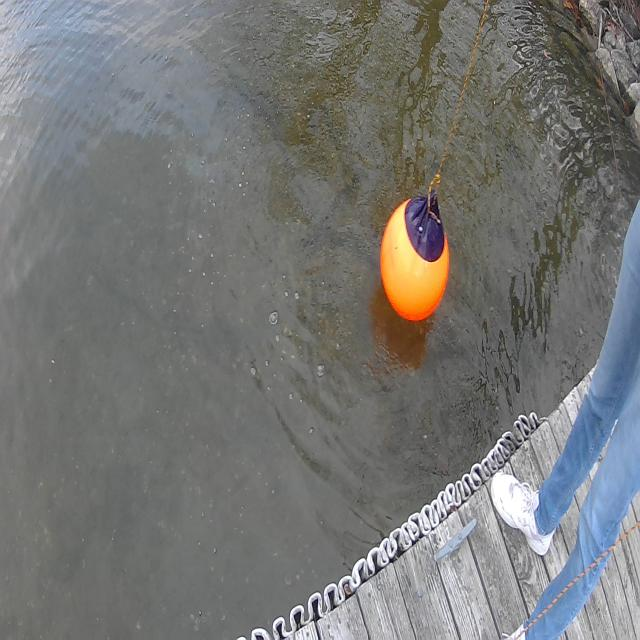Buoy: (376, 177, 457, 331)
